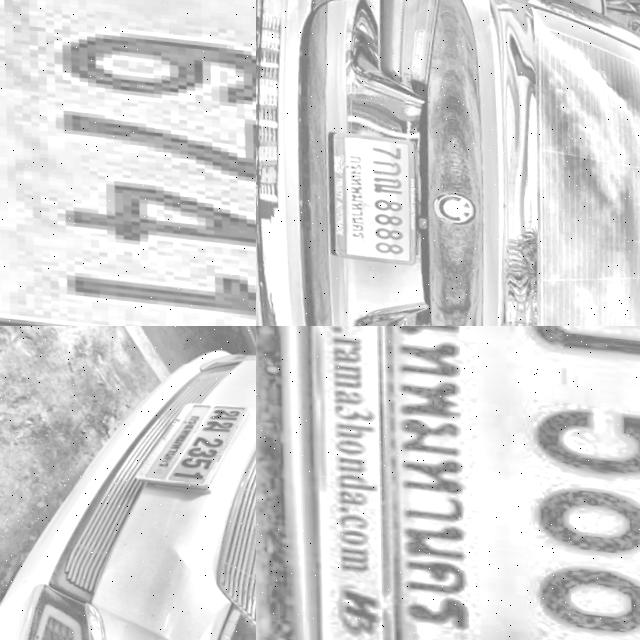license-plate: (256, 326, 640, 640), (0, 0, 256, 326), (315, 127, 422, 264), (120, 388, 255, 493)
